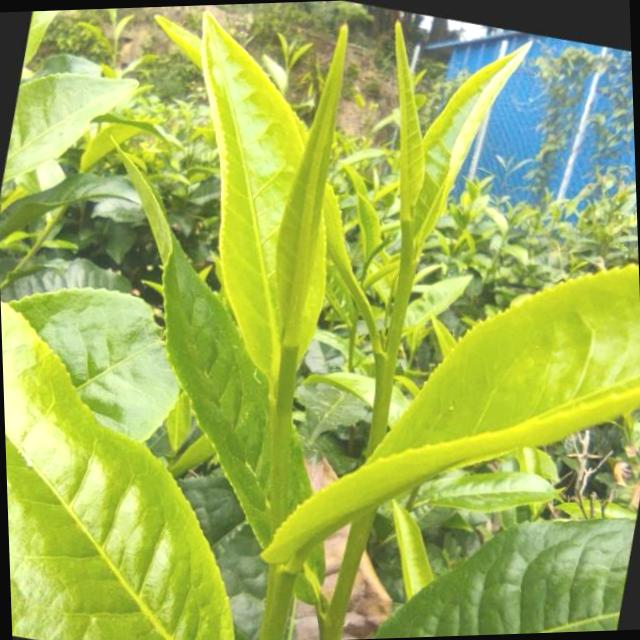Stem: (263, 571, 290, 605), (375, 353, 395, 376)
